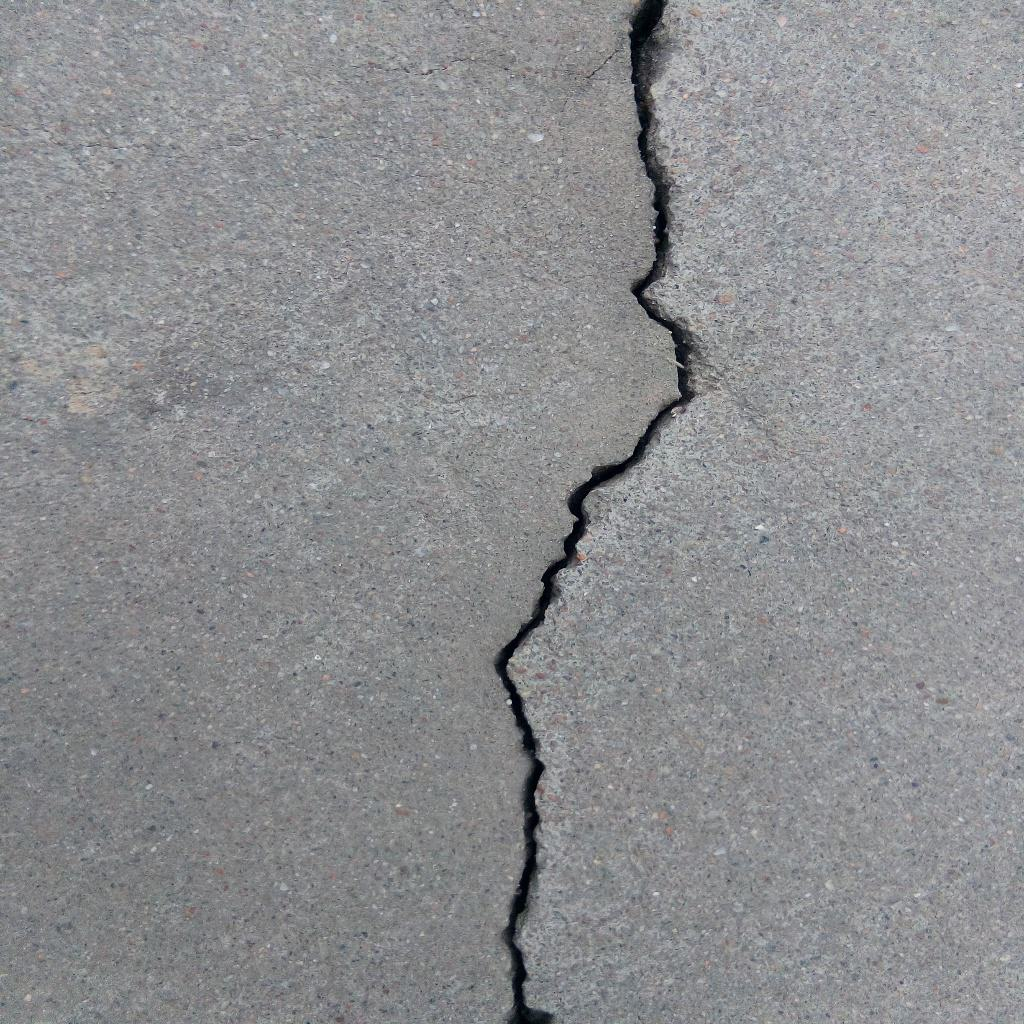Crack: (492, 1, 694, 1024)
